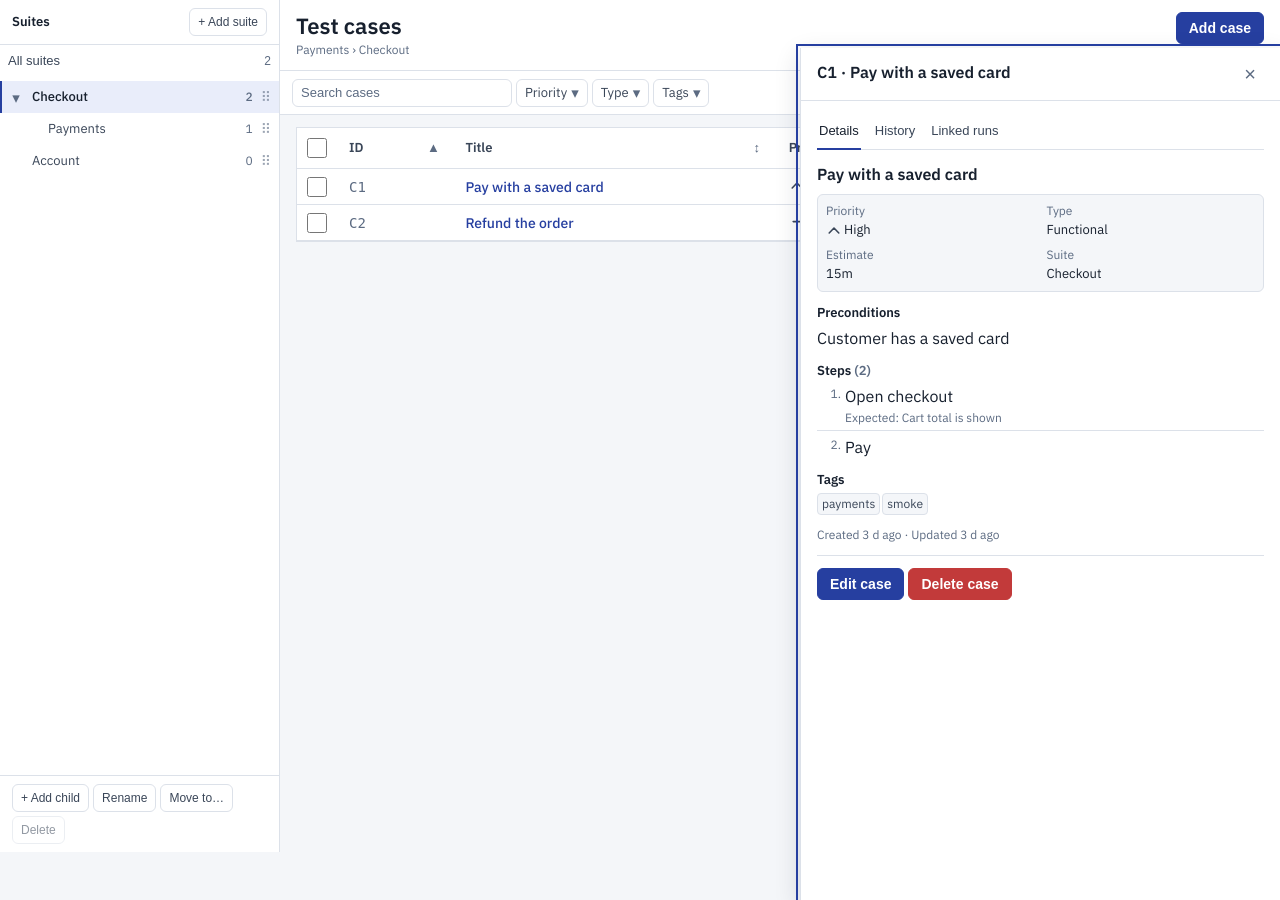
it: cases screen › lists the runs a case belongs to, linking each one
The width and height of the screenshot is (1280, 900).
Click the tab "Linked runs". click: [965, 131]
box: [929,113,1000,149]
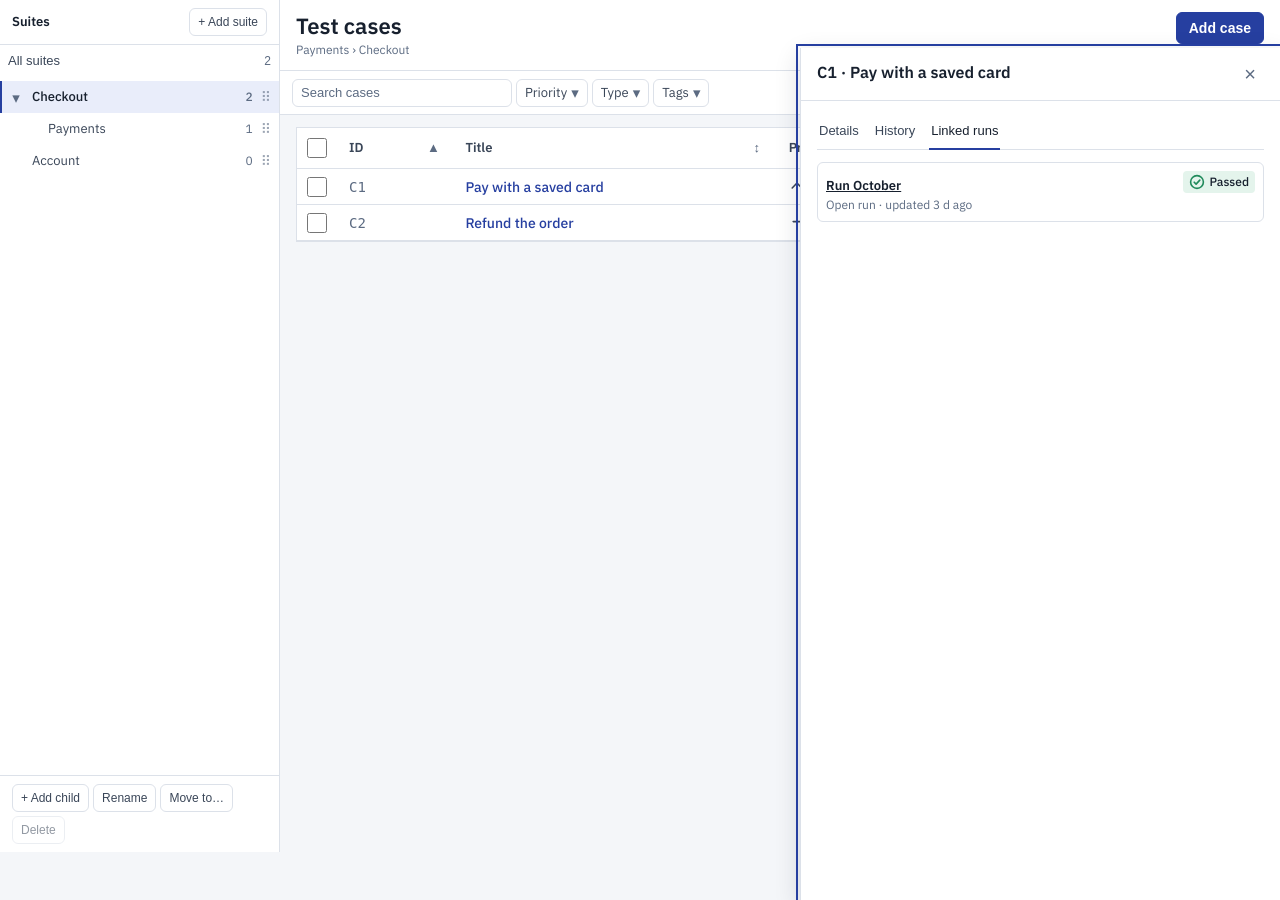
Expected: the text "Passed" is shown, [1184,171,1255,193]
